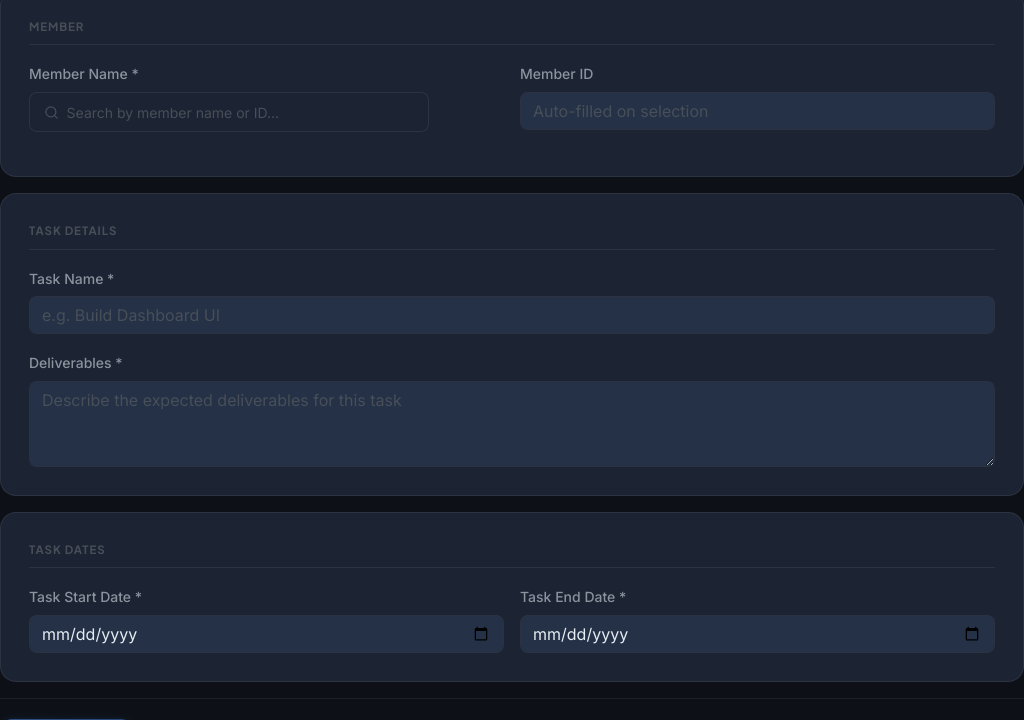
it: AssignTaskPage › should show validation error when task end date is before start date
(page scrolled)
Type "2025-06-01" into the date field labelled "Task Start Date *". click: (266, 634)
box: [29, 615, 504, 653]
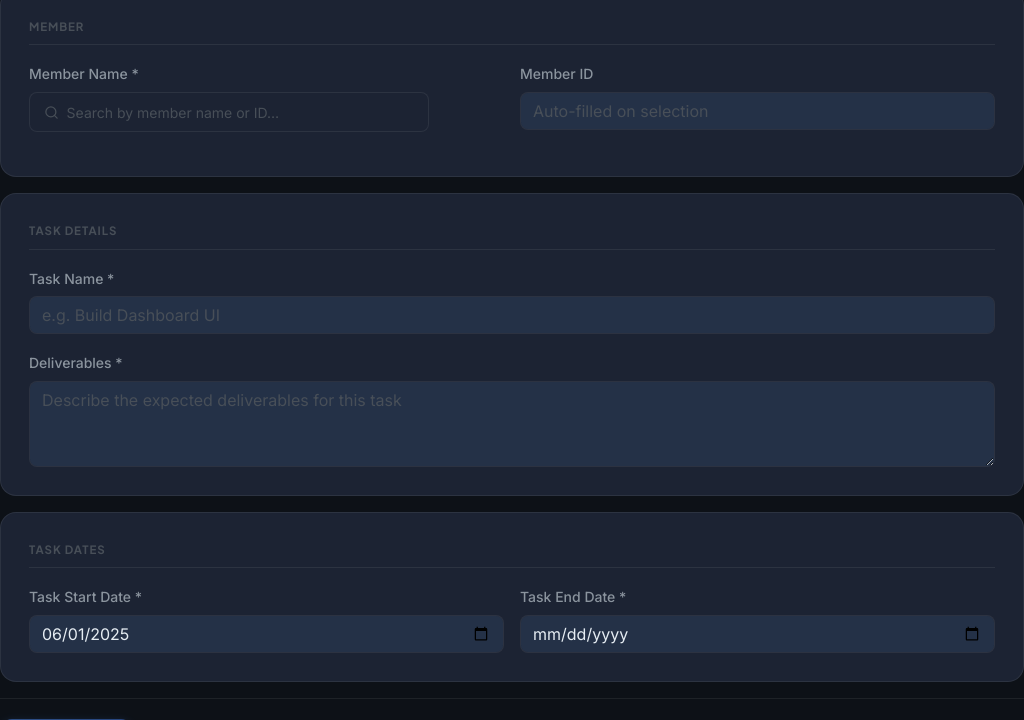
Type "2024-01-01" into the date field labelled "Task End Date *". click: (758, 634)
box: [520, 615, 995, 653]
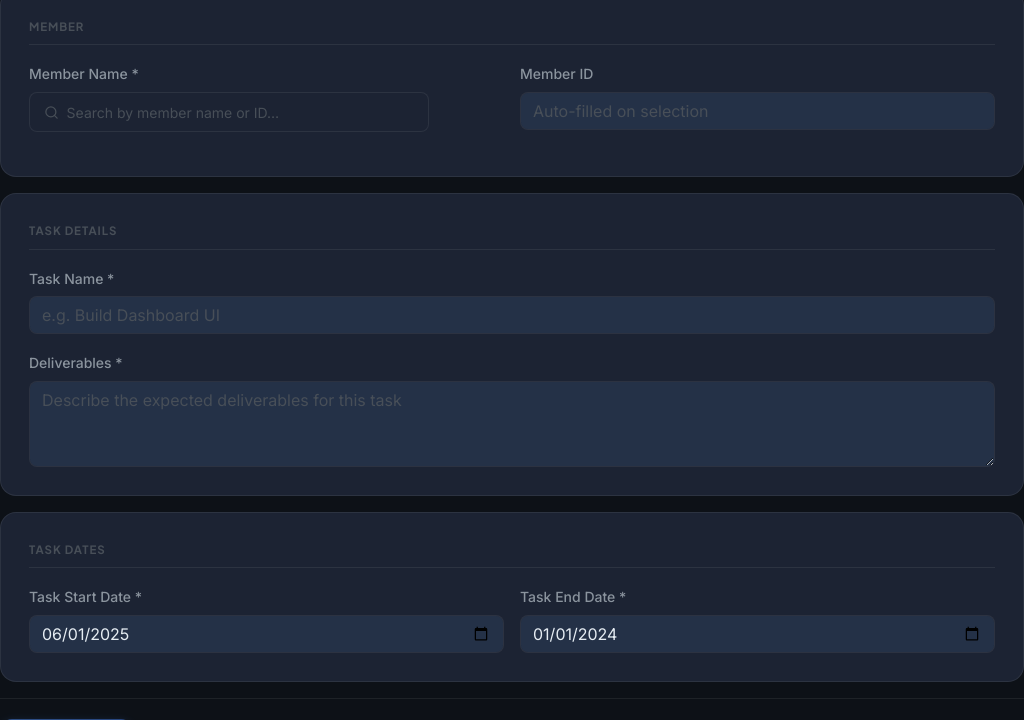
Leave the date field labelled "Task End Date *", box [520, 615, 995, 653]
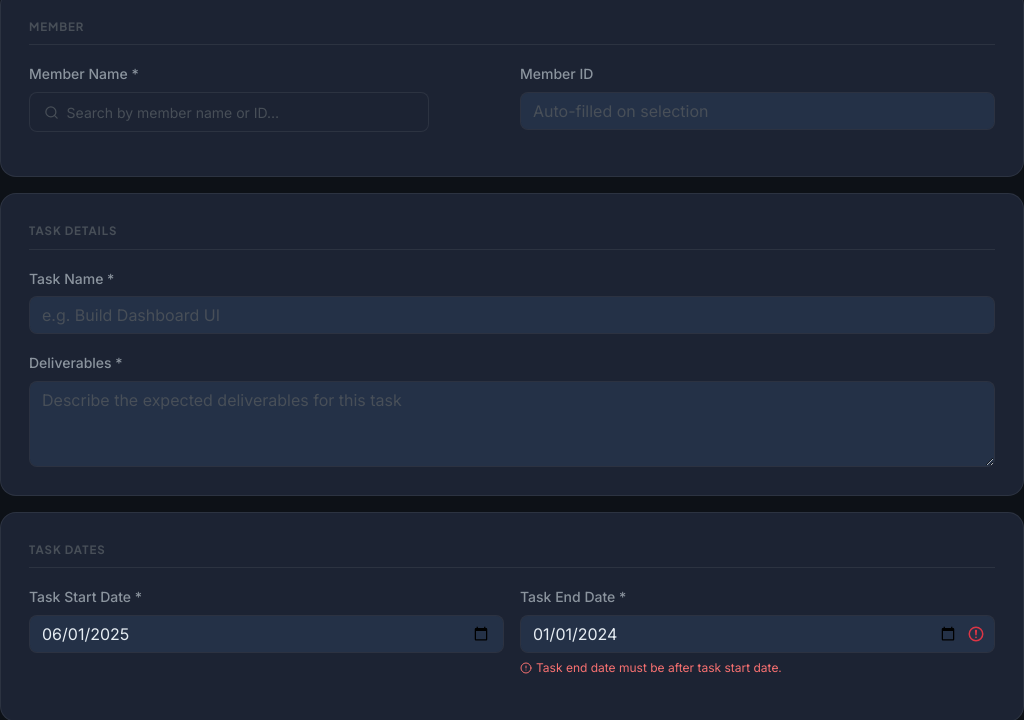
Check: the text "Task end date must be after task start date." is shown, box [520, 660, 782, 675]
